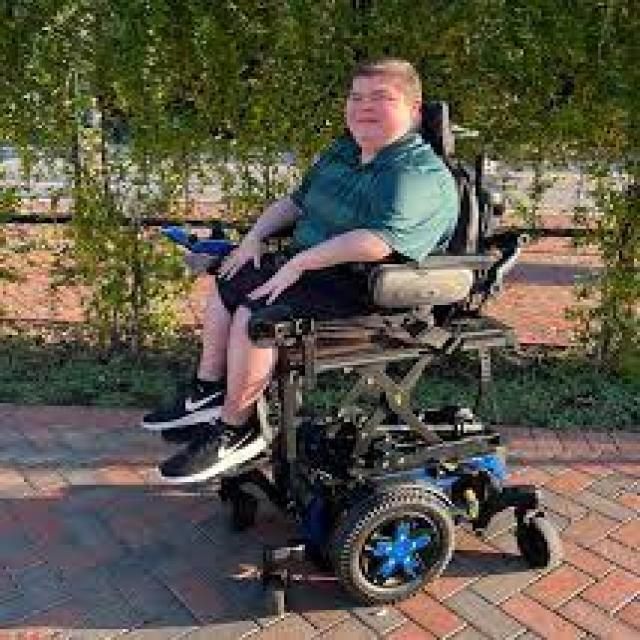wheelchairs: (137, 63, 589, 640)
